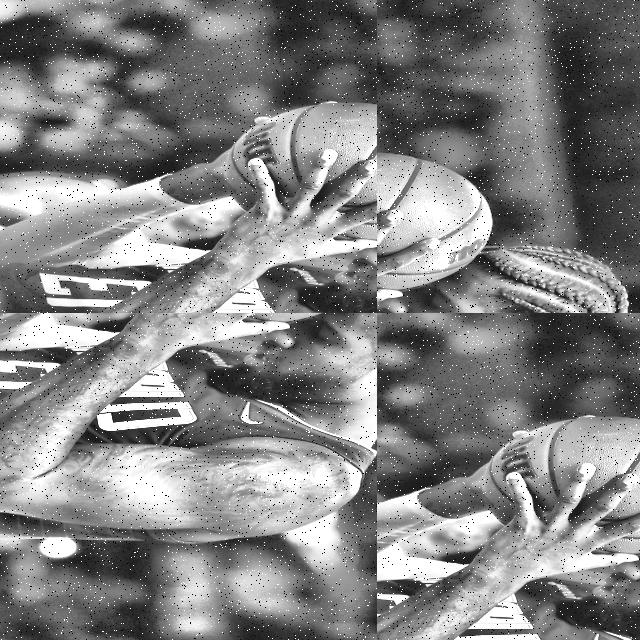Basketball: (113, 202, 377, 313), (483, 416, 640, 523), (186, 493, 236, 522)
